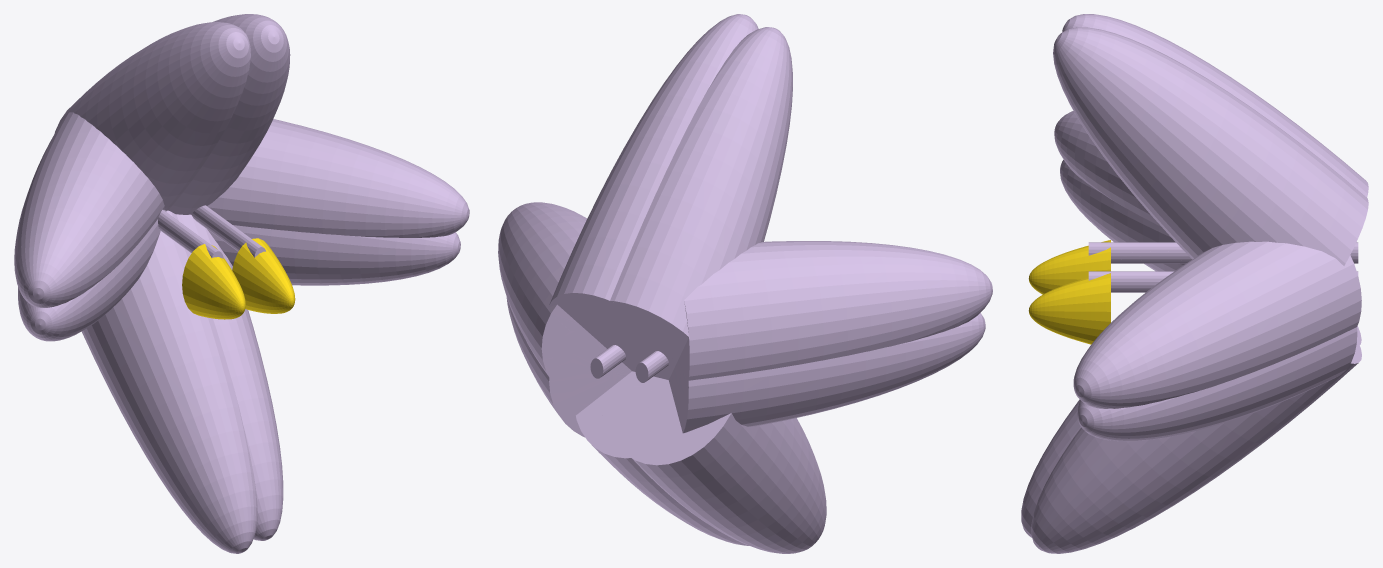
The model's file is tinker.obj.
The picture shows the model from 3 angles, left to right: view 1: azimuth 30°, elevation 25°; view 2: azimuth 150°, elevation 25°; view 3: azimuth 270°, elevation 25°; orthographic projection. The views are drawn at different scales.
Parts seen in each view (by area): view 1: group_0_13877221, group_0_16768282; view 2: group_0_13877221; view 3: group_0_13877221, group_0_16768282.
Boxes of the visible parts, x1=… form: group_0_13877221: x1=14, y1=14, x2=469, y2=553; group_0_16768282: x1=182, y1=238, x2=295, y2=319; group_0_13877221: x1=498, y1=14, x2=992, y2=553; group_0_13877221: x1=1021, y1=14, x2=1368, y2=553; group_0_16768282: x1=1028, y1=240, x2=1110, y2=344.
Bounding box in the file's own units: 72.77 × 78.63 × 46.39.
